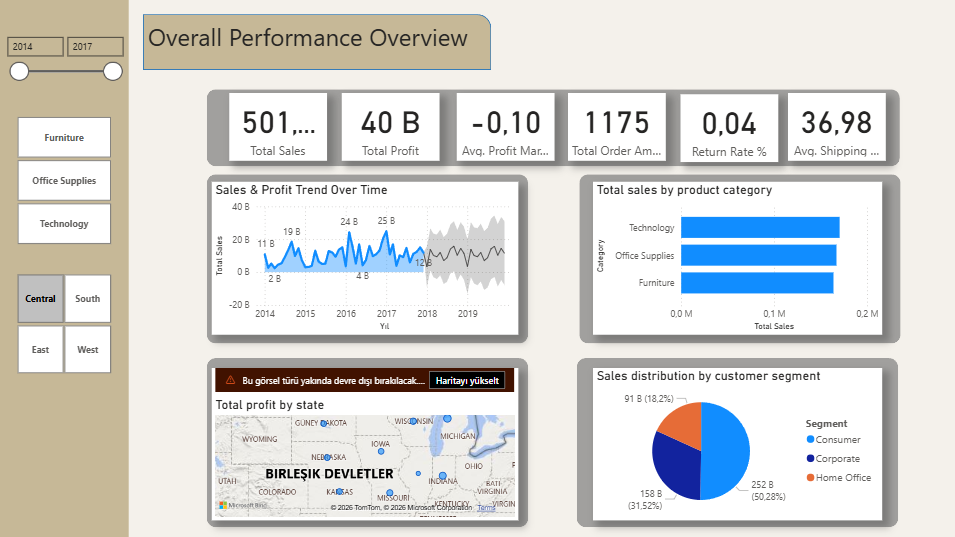

This screenshot's page, from the dashboard's own definition file:
{"tool":"powerbi","page":{"name":"Overall performance overview","canvas":[1280,720],"ordinal":0},"visuals":[{"type":"shape","box":[278.6,235.7,428.6,225.7],"z":0},{"type":"shape","box":[774.3,235.7,428.6,225.7],"z":1000},{"type":"shape","box":[278.6,480,428.6,225.7],"z":2000},{"type":"shape","box":[278.6,121.4,924.3,102.9],"z":3000},{"type":"shape","box":[771.4,480,428.6,225.7],"z":4000},{"type":"card","fields":{"Values":["Sum(RetailDataSet_ForPowerBI.Sales)"]},"box":[308.6,127.1,130,90],"z":5000},{"type":"card","fields":{"Values":["Sum(RetailDataSet_ForPowerBI.Profit)"]},"box":[458.6,127.1,130,90],"z":6000},{"type":"card","fields":{"Values":["RetailDataSet_ForPowerBI.Average Profit Margin"]},"box":[611.4,127.1,130,90],"z":7000},{"type":"card","fields":{"Values":["RetailDataSet_ForPowerBI.Total_Order_Amount"]},"box":[760,127.1,130,90],"z":8000},{"type":"card","fields":{"Values":["RetailDataSet_ForPowerBI.Return Rate %"]},"box":[910,128.6,130,90],"z":9000},{"type":"card","fields":{"Values":["RetailDataSet_ForPowerBI.Average Shipping Time"]},"box":[1052.9,127.1,130,90],"z":10000},{"type":"lineChart","title":"Sales & Profit Trend Over Time","fields":{"Y":["Sum(RetailDataSet_ForPowerBI.Sales)"],"Category":["RetailDataSet_ForPowerBI.Order Date.Varyasyon.Tarih Hiyerarşisi.Yıl","RetailDataSet_ForPowerBI.Order Date.Varyasyon.Tarih Hiyerarşisi.Çeyrek","RetailDataSet_ForPowerBI.Order Date.Varyasyon.Tarih Hiyerarşisi.Ay"]},"box":[285.7,245.7,408.6,204.3],"z":11000},{"type":"barChart","title":"Total sales by product category","fields":{"Category":["RetailDataSet_ForPowerBI.Category"],"Y":["Sum(RetailDataSet_ForPowerBI.Sales)"]},"box":[792.9,245.7,385.7,204.3],"z":12000},{"type":"pieChart","title":"Sales distribution by customer segment","fields":{"Category":["RetailDataSet_ForPowerBI.Segment"],"Y":["Sum(RetailDataSet_ForPowerBI.Sales)"]},"box":[792.9,492.9,385.7,202.9],"z":13000},{"type":"map","title":"Total profit by  state","fields":{"Category":["RetailDataSet_ForPowerBI.State"],"Size":["Sum(RetailDataSet_ForPowerBI.Profit)"]},"box":[285.7,492.9,408.6,202.9],"z":14000},{"type":"shape","box":[0,1.4,174.3,718.6],"z":15000},{"type":"slicer","fields":{"Values":["RetailDataSet_ForPowerBI.Order Year"]},"box":[0,41.4,174.3,110],"z":16000},{"type":"shape","box":[192.9,21.4,464.3,74.3],"z":17000},{"type":"slicer","fields":{"Values":["RetailDataSet_ForPowerBI.Category"]},"box":[0,151.4,174.3,182.9],"z":18000},{"type":"slicer","fields":{"Values":["RetailDataSet_ForPowerBI.Region"]},"box":[0,361.4,174.3,145.7],"z":19000},{"type":"textbox","box":[194.3,24.3,488.6,72.9],"z":20000}]}

Visuals, with their boxes in screenshot pixels (x1, y1, x2, y2), scaled from the page's 1280x720 canvas onto the 955x537 screenshot:
shape: {"left": 208, "top": 176, "right": 528, "bottom": 344}
shape: {"left": 578, "top": 176, "right": 897, "bottom": 344}
shape: {"left": 208, "top": 358, "right": 528, "bottom": 526}
shape: {"left": 208, "top": 91, "right": 897, "bottom": 167}
shape: {"left": 576, "top": 358, "right": 895, "bottom": 526}
card - Sum(RetailDataSet_ForPowerBI.Sales): {"left": 230, "top": 95, "right": 327, "bottom": 162}
card - Sum(RetailDataSet_ForPowerBI.Profit): {"left": 342, "top": 95, "right": 439, "bottom": 162}
card - RetailDataSet_ForPowerBI.Average Profit Margin: {"left": 456, "top": 95, "right": 553, "bottom": 162}
card - RetailDataSet_ForPowerBI.Total_Order_Amount: {"left": 567, "top": 95, "right": 664, "bottom": 162}
card - RetailDataSet_ForPowerBI.Return Rate %: {"left": 679, "top": 96, "right": 776, "bottom": 163}
card - RetailDataSet_ForPowerBI.Average Shipping Time: {"left": 786, "top": 95, "right": 883, "bottom": 162}
"Sales & Profit Trend Over Time" lineChart: {"left": 213, "top": 183, "right": 518, "bottom": 336}
"Total sales by product category" barChart: {"left": 592, "top": 183, "right": 879, "bottom": 336}
"Sales distribution by customer segment" pieChart: {"left": 592, "top": 368, "right": 879, "bottom": 519}
"Total profit by  state" map: {"left": 213, "top": 368, "right": 518, "bottom": 519}
shape: {"left": 0, "top": 1, "right": 130, "bottom": 536}
slicer - RetailDataSet_ForPowerBI.Order Year: {"left": 0, "top": 31, "right": 130, "bottom": 113}
shape: {"left": 144, "top": 16, "right": 490, "bottom": 71}
slicer - RetailDataSet_ForPowerBI.Category: {"left": 0, "top": 113, "right": 130, "bottom": 249}
slicer - RetailDataSet_ForPowerBI.Region: {"left": 0, "top": 270, "right": 130, "bottom": 378}
textbox: {"left": 145, "top": 18, "right": 510, "bottom": 72}
